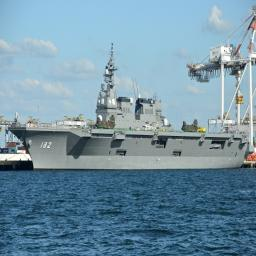Portanaves: (3, 41, 253, 177)
